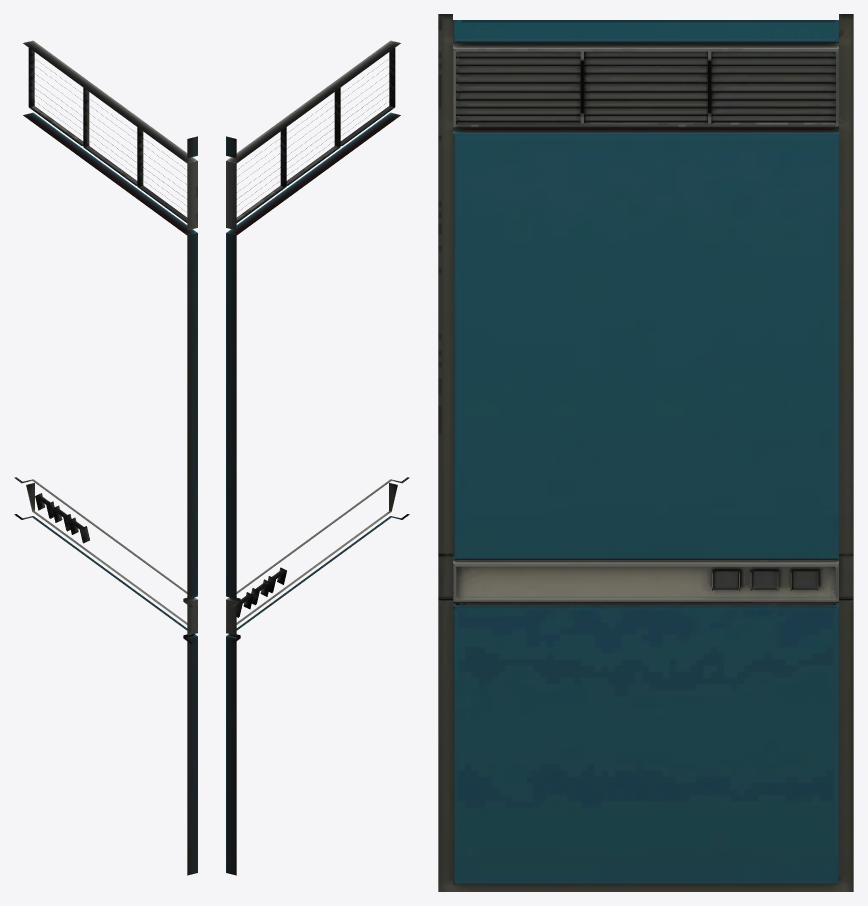
3 renders of one model, left to right at view 1: azimuth 30°, elevation 25°; view 2: azimuth 150°, elevation 25°; view 3: azimuth 270°, elevation 25°, orthographic. The views are drawn at different scales.
Visible parts, largest first — view 1: body0_model0_lod0_mesh0; view 2: body0_model0_lod0_mesh0; view 3: body0_model0_lod0_mesh0.
Part boxes in pixels (box(x1,y1,x2,y2)): body0_model0_lod0_mesh0: box(14, 40, 197, 875); body0_model0_lod0_mesh0: box(226, 40, 409, 875); body0_model0_lod0_mesh0: box(438, 14, 853, 891).
Size of the model in its own units: 2.49 by 112 by 47.99.
Materials: 1 (1 with a texture image).
